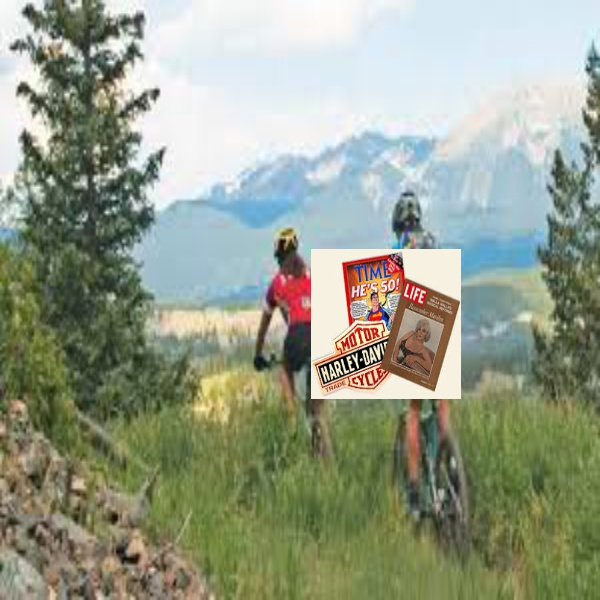time_cover: (322, 255, 387, 363), (414, 261, 452, 381)
